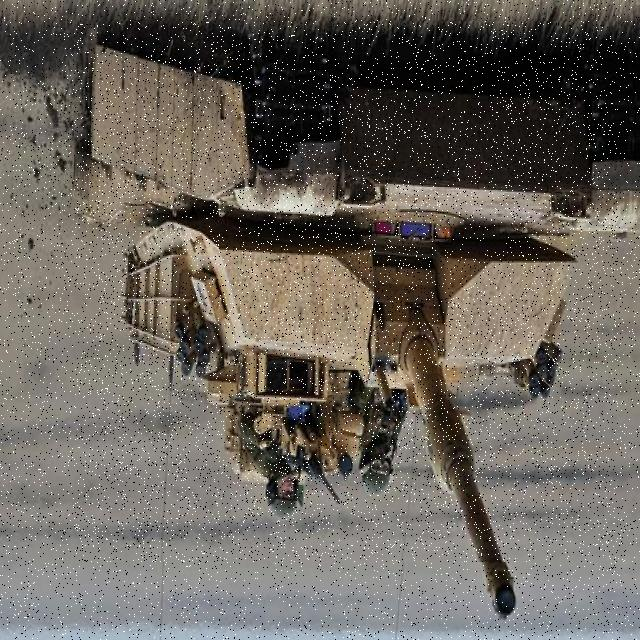MIL_MBT: (75, 21, 622, 561)
